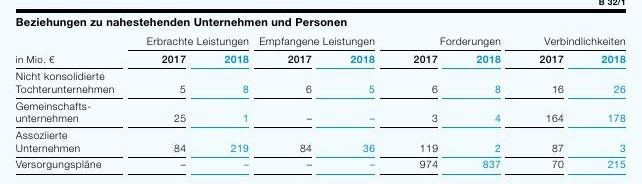table: (0, 0, 642, 184)
